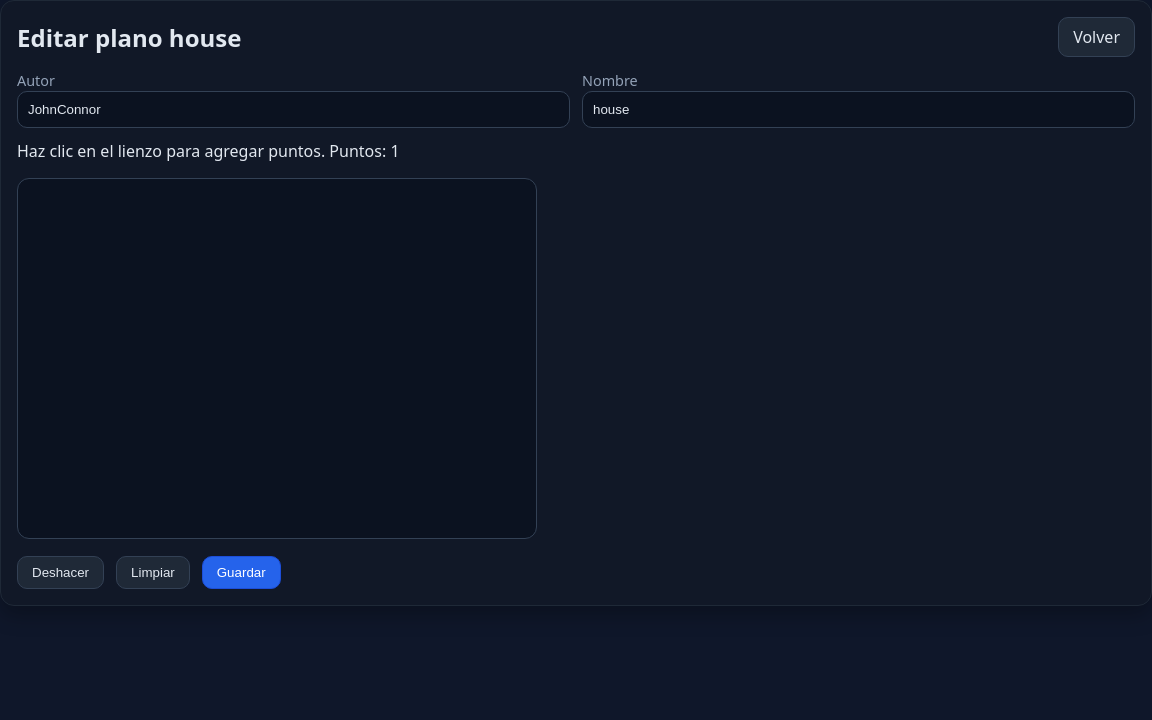
Editor de planos › al editar carga los puntos del plano y guarda con update
Expected: the text "Haz clic en el lienzo para agregar puntos. Puntos: 1" is shown, [17,140,400,162]
Click the drawing with id "blueprint-editor" at (277, 358), box [17,178,537,539]
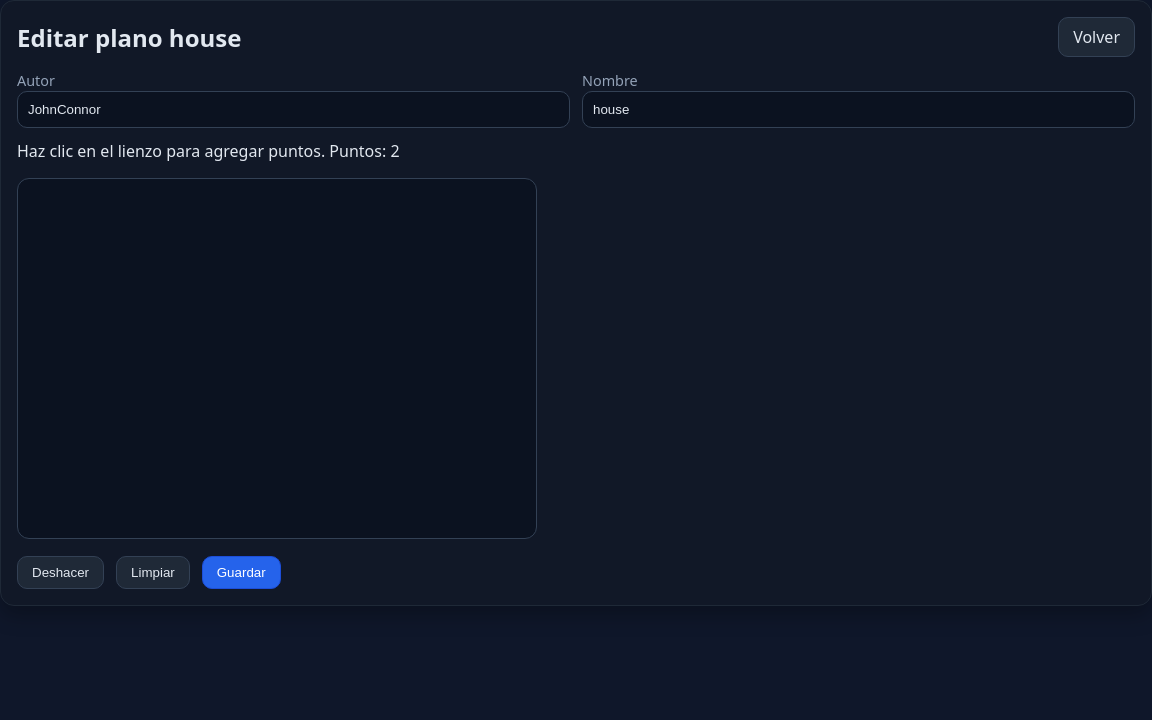
Click the button "Guardar" at (241, 572), box [202,556,281,589]
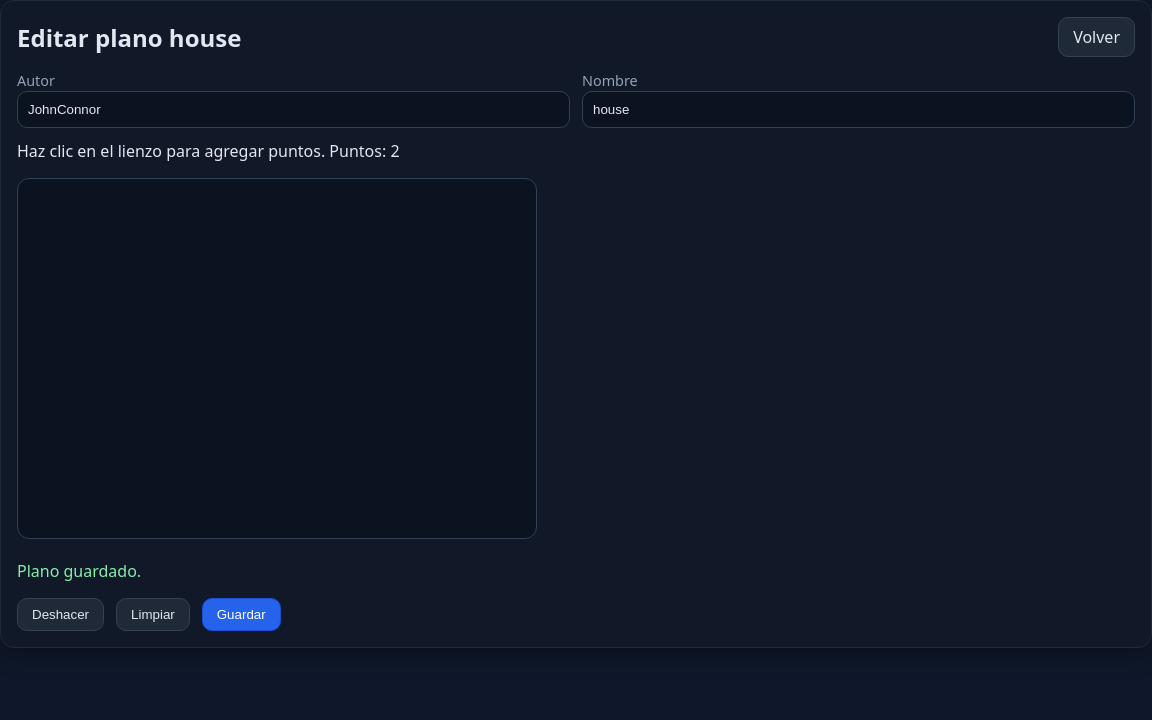
Expected: the text "Plano guardado." is shown, [17,560,141,582]
